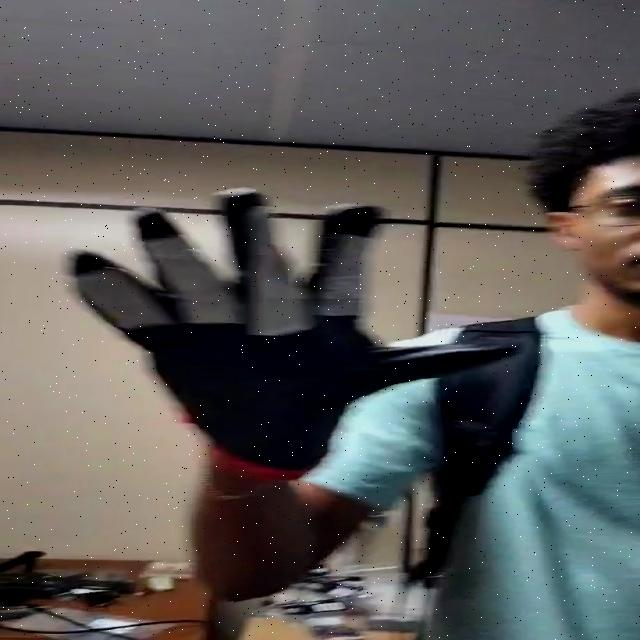Gloves: (69, 185, 514, 480)
